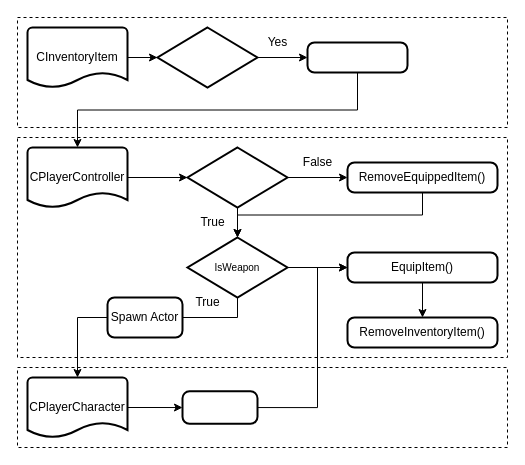
Some shapes in this 525 by 465 pixel diagram are drawn without their labels. Each missing label, with the centre of its shape:
DoubleClicked?: the point at 207,57
Equip: the point at 357,57
Equip(): the point at 219,407
IsSocketEmpty(): the point at 237,177
